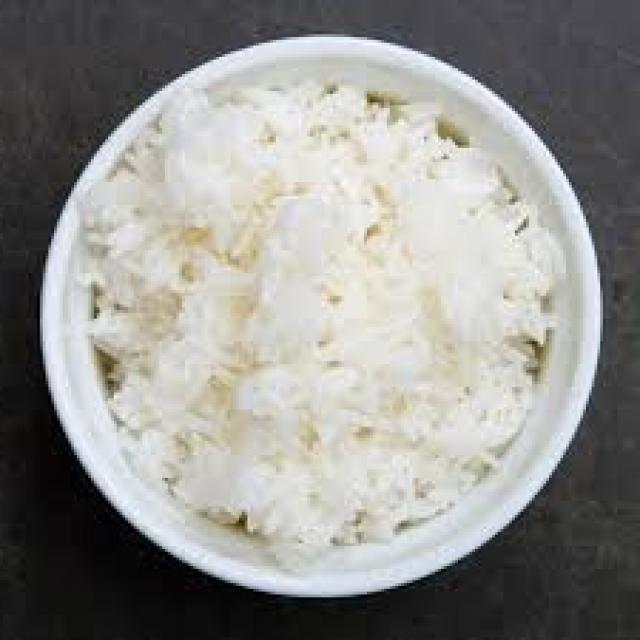White Rice: (71, 51, 581, 585)
